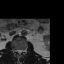CCS_normal: (18, 48, 20, 56)
LFS_stenosis: (22, 48, 24, 53)
LLS_normal: (20, 48, 22, 54)
RFS_stenosis: (14, 48, 16, 53)
RLS_normal: (16, 48, 18, 54)
